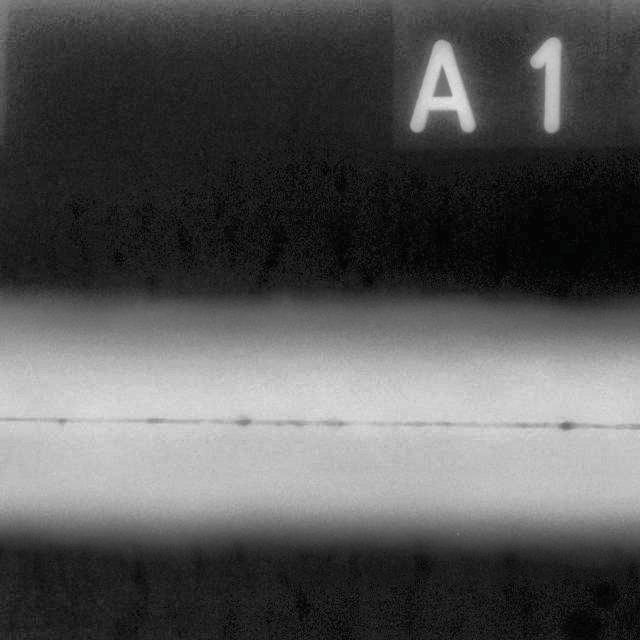LoP-LoF: (1, 392, 640, 453)
